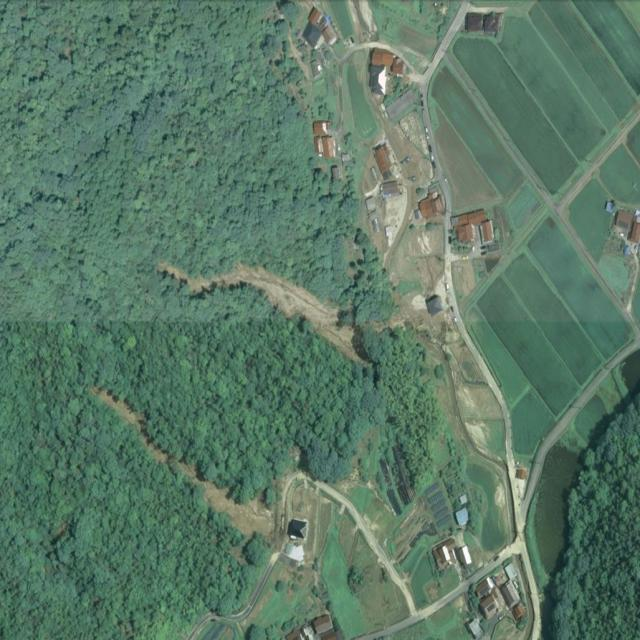landslide: (88, 386, 274, 539), (157, 262, 360, 361)
